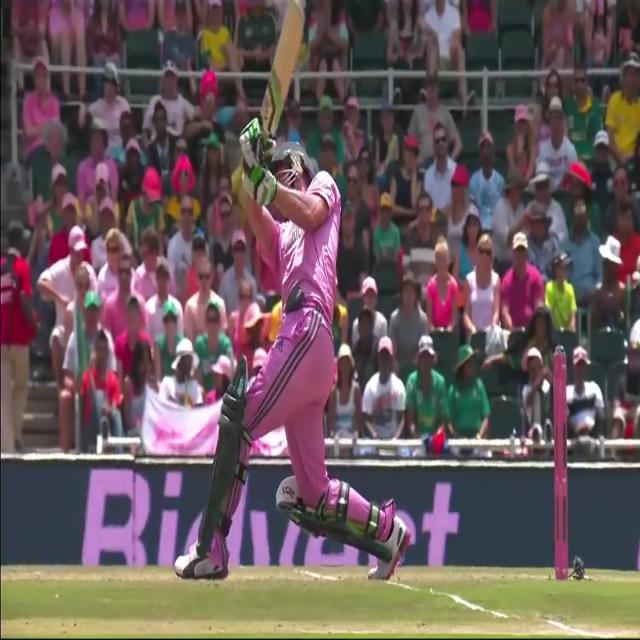Ball: (173, 130, 410, 583)
